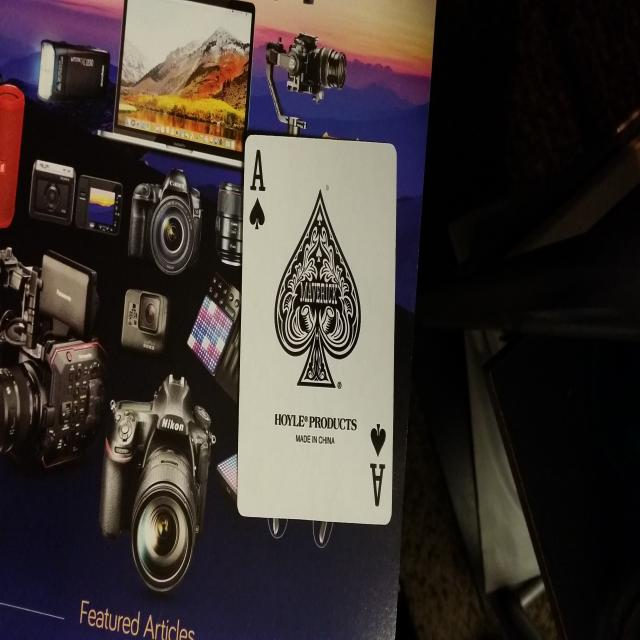As: (244, 143, 272, 236), (366, 420, 389, 516)
